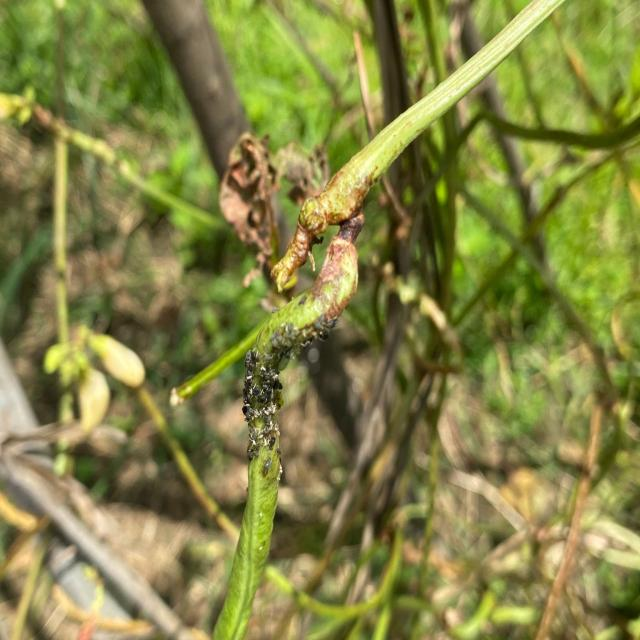sitaw-aphid-moderate: (213, 218, 361, 640)
